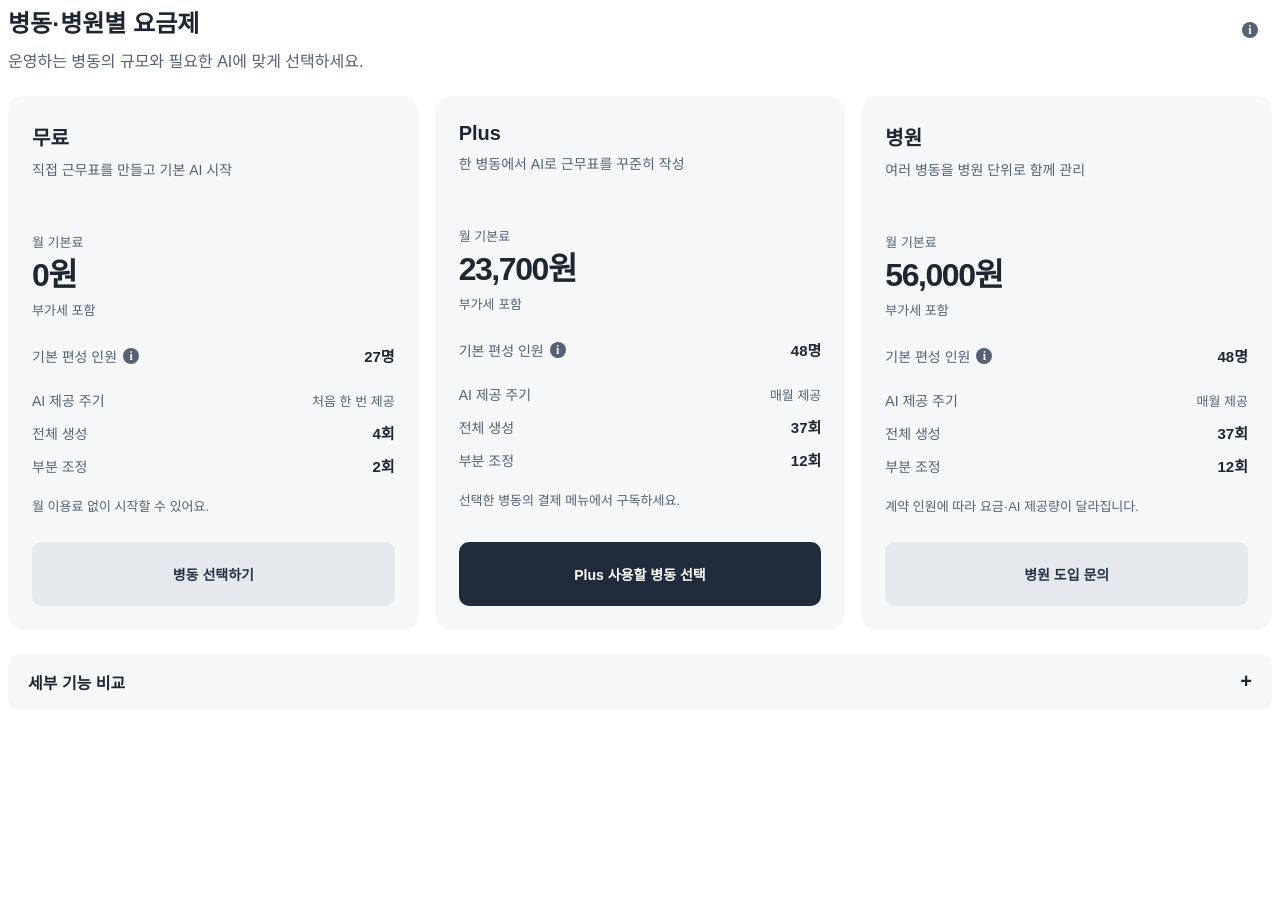
workspace plans › keeps detailed comparisons collapsed and respects separate server feature flags
The image size is (1280, 900).
Expected: the text "23,700원" is shown, 459,251 -> 576,287
Click the heading "세부 기능 비교". click: x=77, y=683
box: 28,670 -> 1252,693
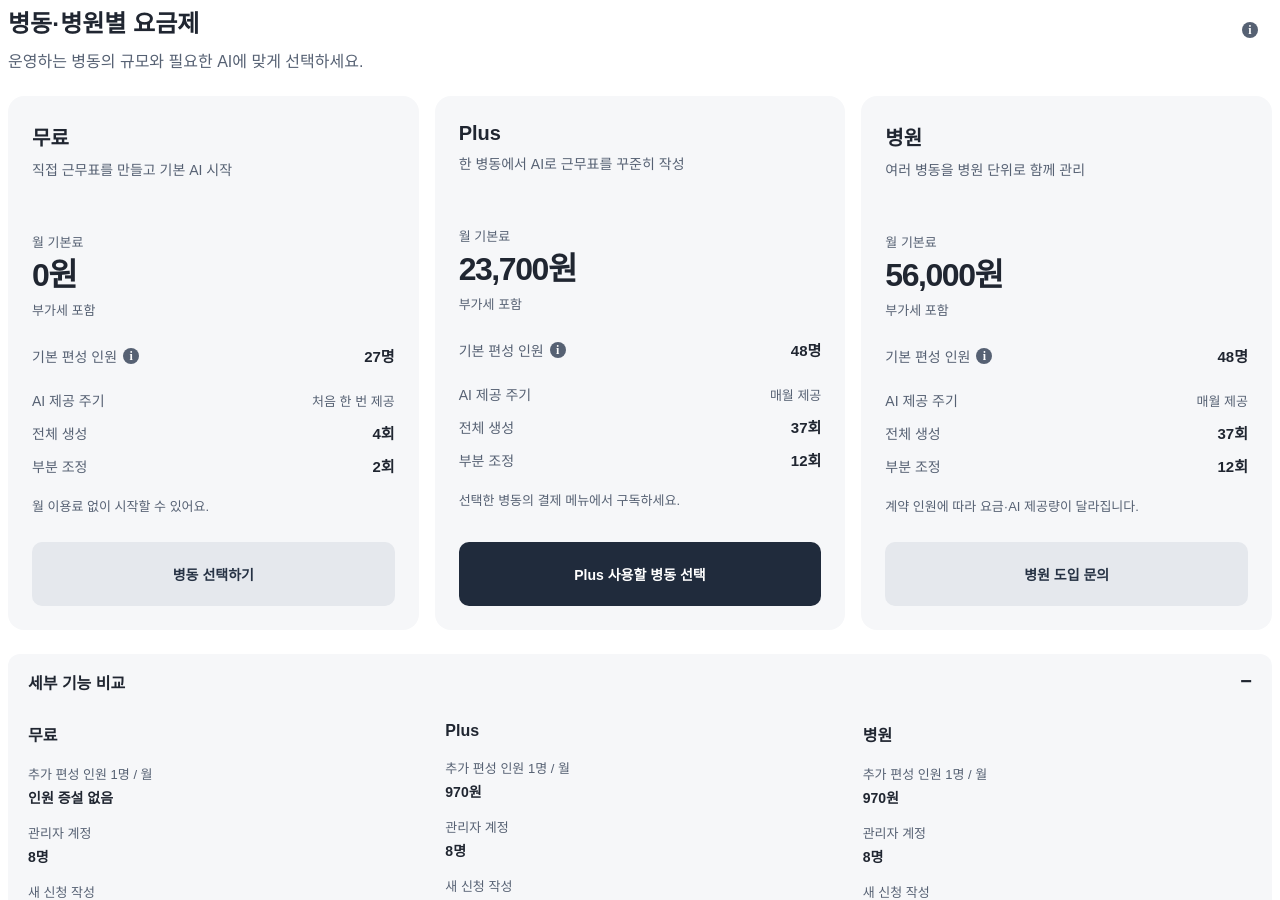
Result: the 1st text "추가 편성 인원 1명 / 월" shows "970원" at 445,784 -> 482,800
